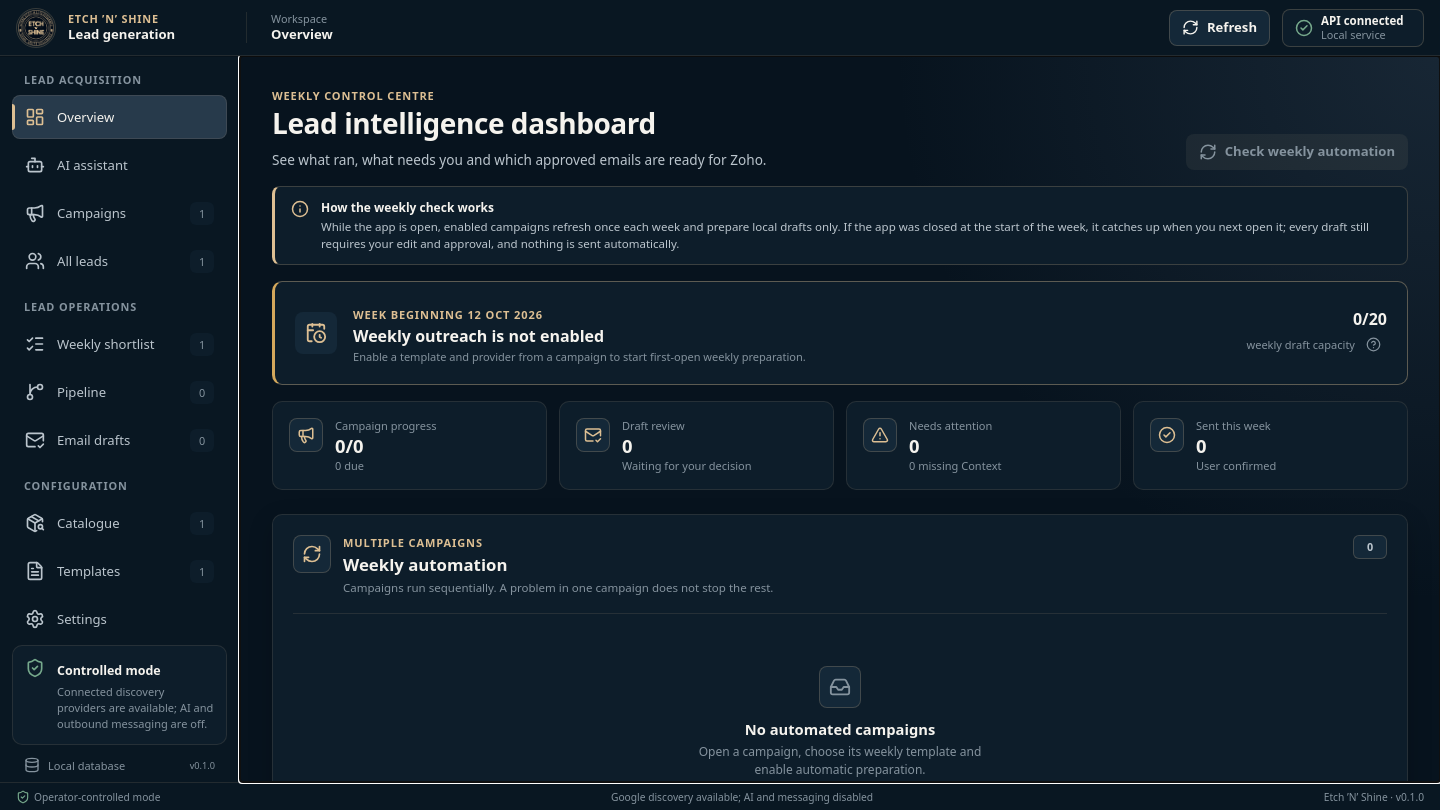
Test: local operating workbench › uses the same local AI interface for general answers and downloadable playbooks
Expected: the text "API connected" is shown, [1321,14,1404,28]
Click the link "AI assistant" at (76, 165), box [25,155,128,175]
(page scrolled)
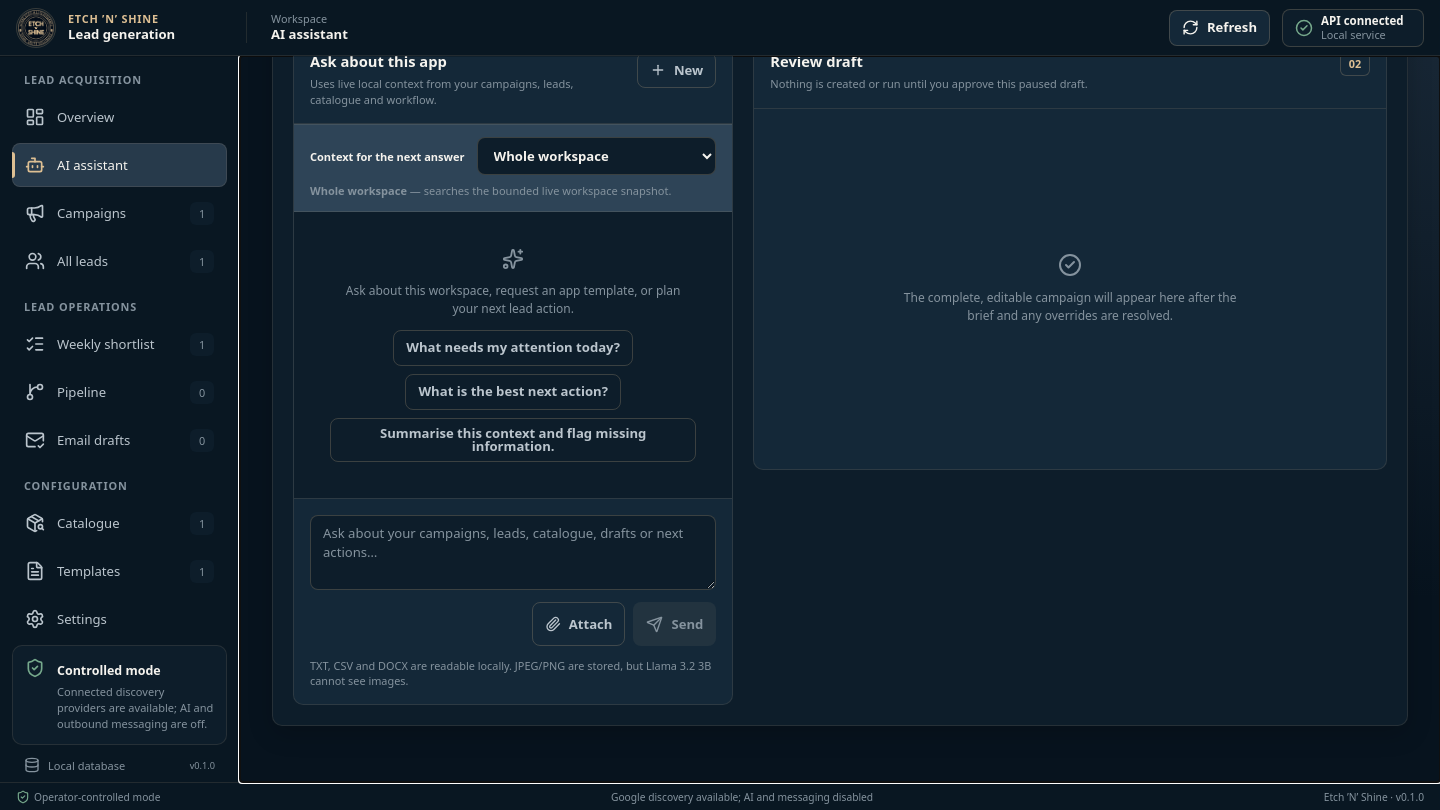
Type "Create a Luton bakery campaign playbook as a Word document" into the text box named "Ask the local assistant" at (513, 553), box [310,515,716,590]
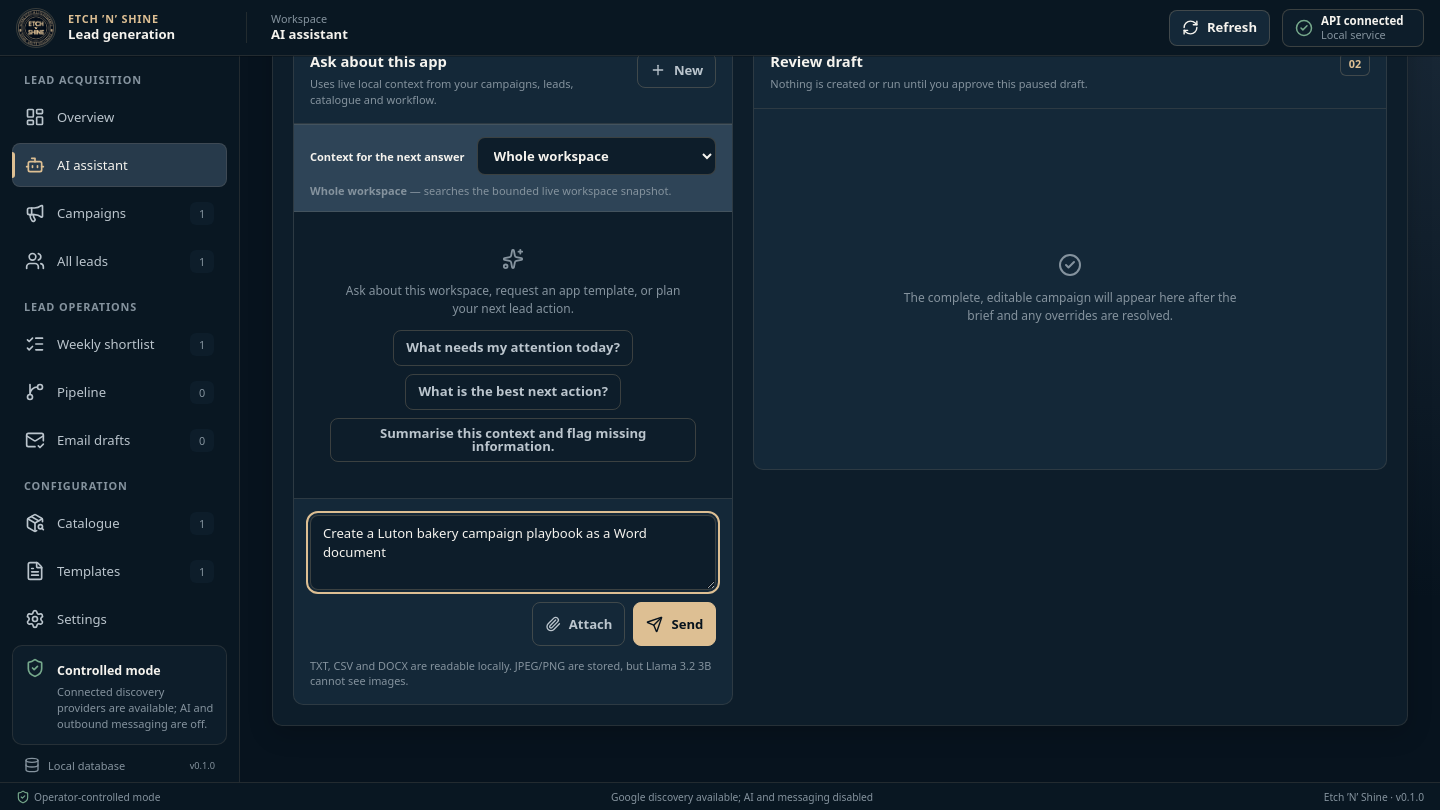
Click the button "Send" at (675, 624), box [633,602,716,646]
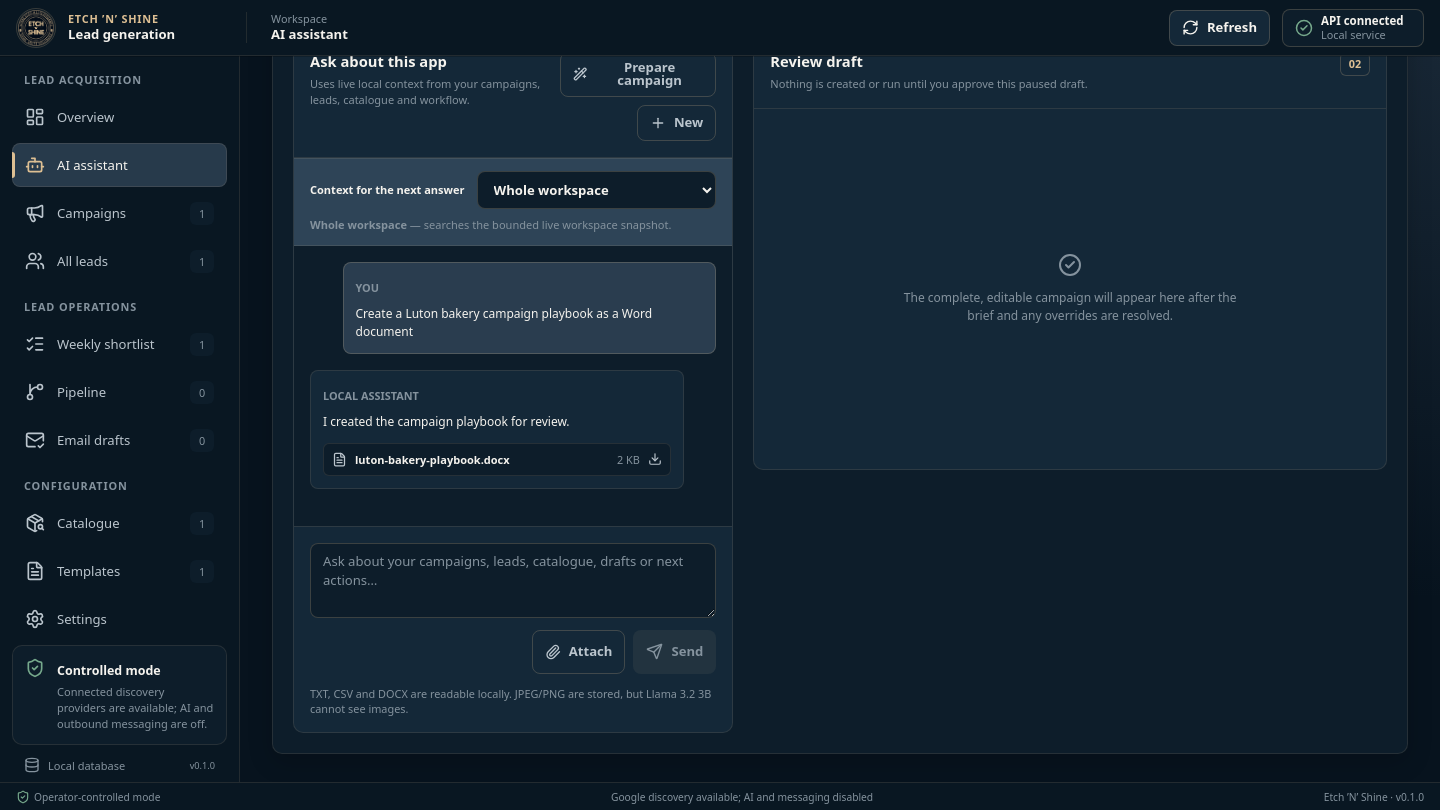
Expected: the text "I created the campaign playbook for review." is shown, [323,412,570,430]
Expected: the button "luton-bakery-playbook.docx 2 KB" is shown, [323,442,671,476]
